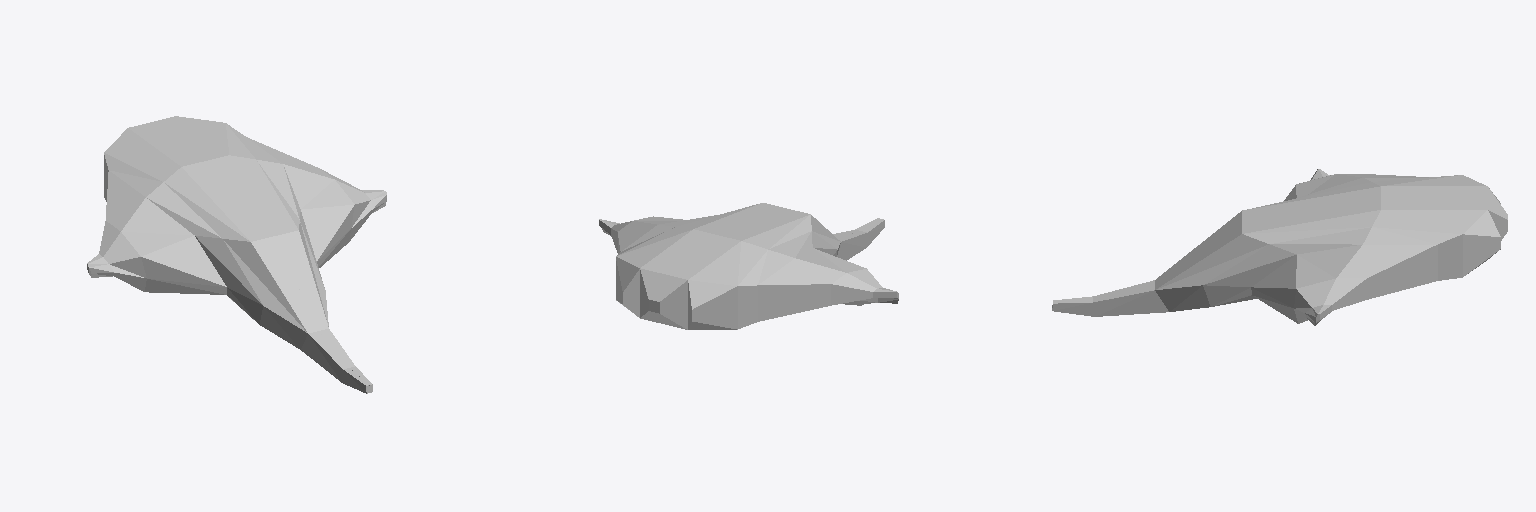
File: manta.obj
The picture shows the model from 3 angles: view 1: azimuth 30°, elevation 25°; view 2: azimuth 150°, elevation 25°; view 3: azimuth 270°, elevation 25°; orthographic projection.
Visible parts, largest first — view 1: Cube; view 2: Cube; view 3: Cube.
Part boxes in pixels (x1,y1,x2,y2): Cube: (87,116,386,393); Cube: (599,203,898,329); Cube: (1052,169,1507,325).
Size of the model in its own units: 12.43 by 4.61 by 16.45.